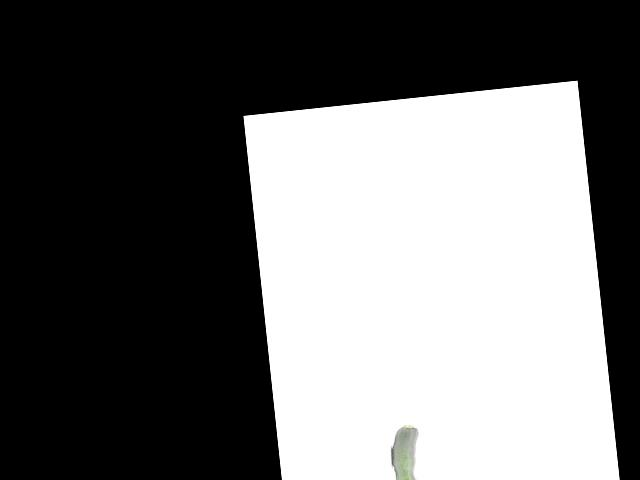cucumber: (388, 423, 424, 480)
